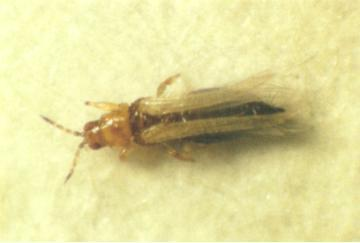tiny_pests: (28, 59, 343, 215)
